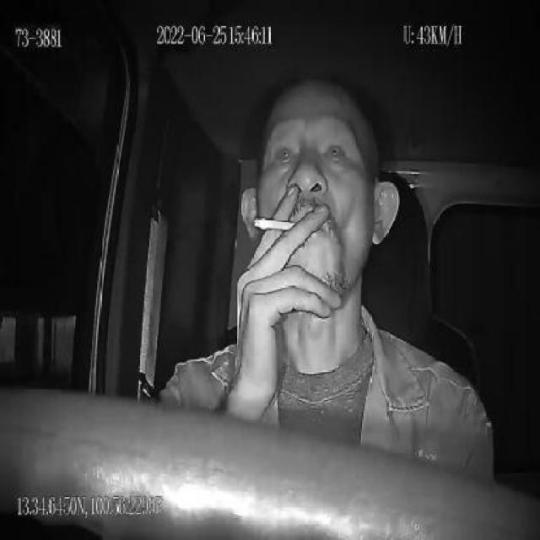smoking: (254, 216, 296, 232)
